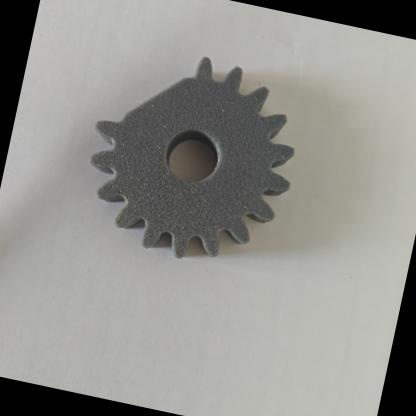defect: (70, 28, 235, 182)
gear: (37, 22, 339, 309)
